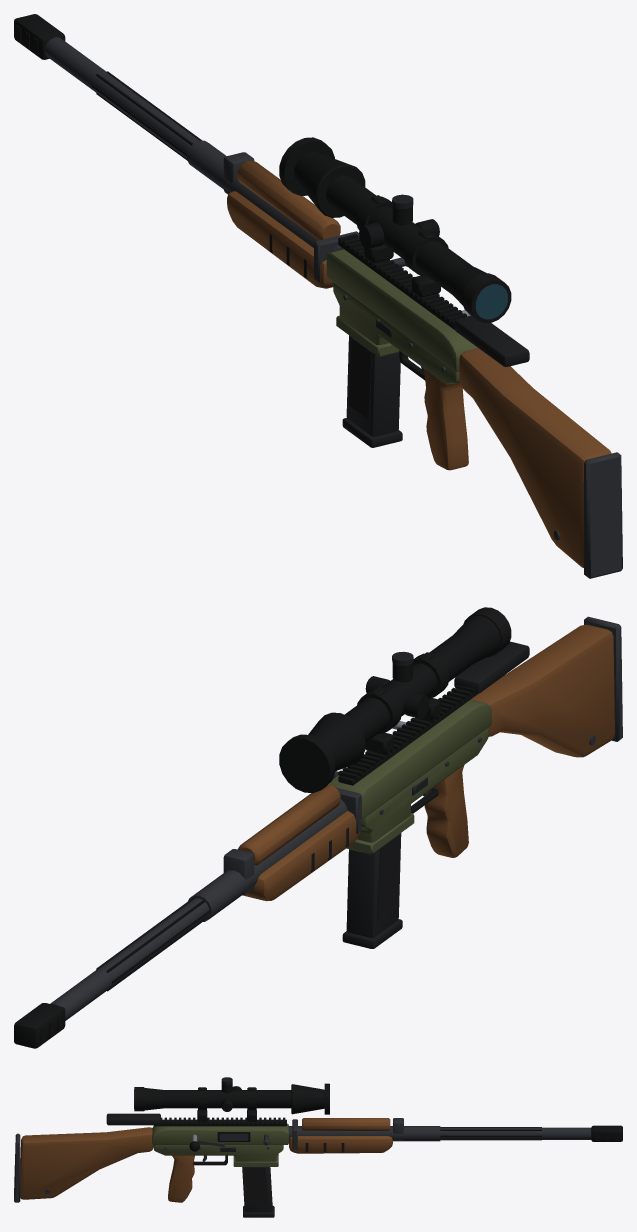
File: gun_27.glb
3 renders of one model, top to bottom at view 1: azimuth 30°, elevation 25°; view 2: azimuth 150°, elevation 25°; view 3: azimuth 270°, elevation 25°, orthographic. The views are drawn at different scales.
Visible parts, largest first — view 1: gun_27; view 2: gun_27; view 3: gun_27.
Part boxes in pixels (x1,y1,x2,y2): gun_27: [14, 14, 622, 578]; gun_27: [14, 607, 622, 1048]; gun_27: [14, 1077, 622, 1217].
Bounding box in the file's own units: 0.1254 × 0.3295 × 1.35.
